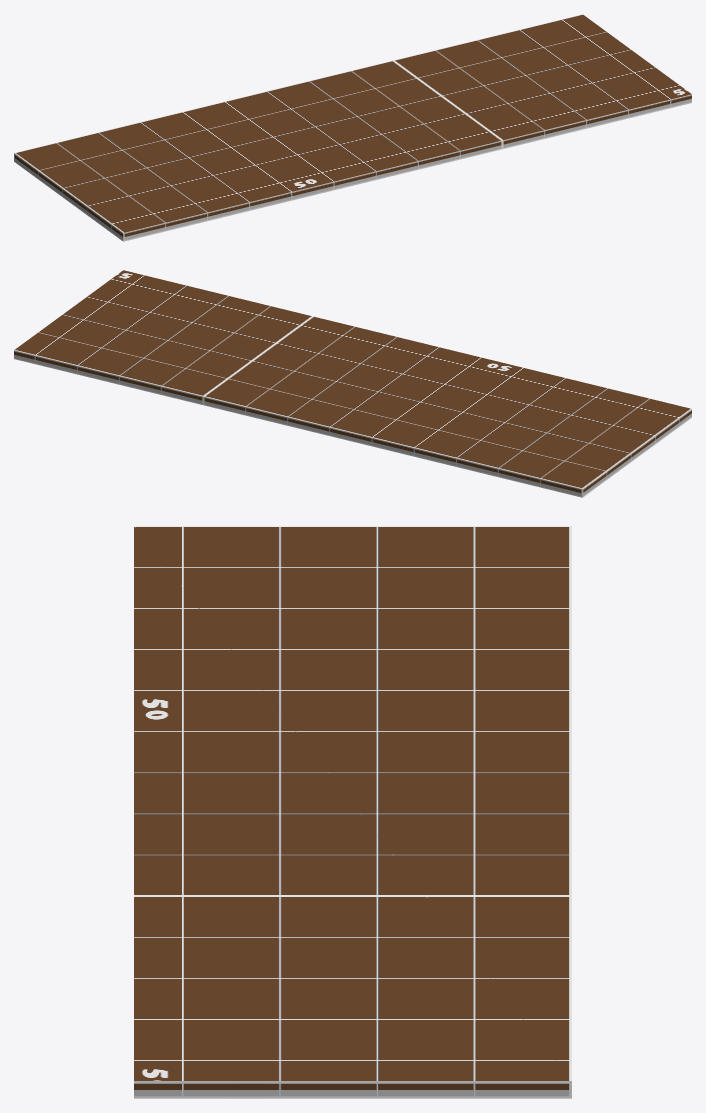
File: M01Floor01_8.FBX
The picture shows the model from 3 angles, top to bottom: view 1: azimuth 30°, elevation 25°; view 2: azimuth 150°, elevation 25°; view 3: azimuth 270°, elevation 25°; orthographic projection. The views are drawn at different scales.
Parts seen in each view (by area): view 1: M01Floor01_8; view 2: M01Floor01_8; view 3: M01Floor01_8.
Boxes of the visible parts, <box> form: M01Floor01_8: <box>14,14,691,241</box>; M01Floor01_8: <box>14,270,691,497</box>; M01Floor01_8: <box>134,526,571,1098</box>.
Size of what is drawn, in the model's own units: 6.75 by 0.1 by 2.25.
